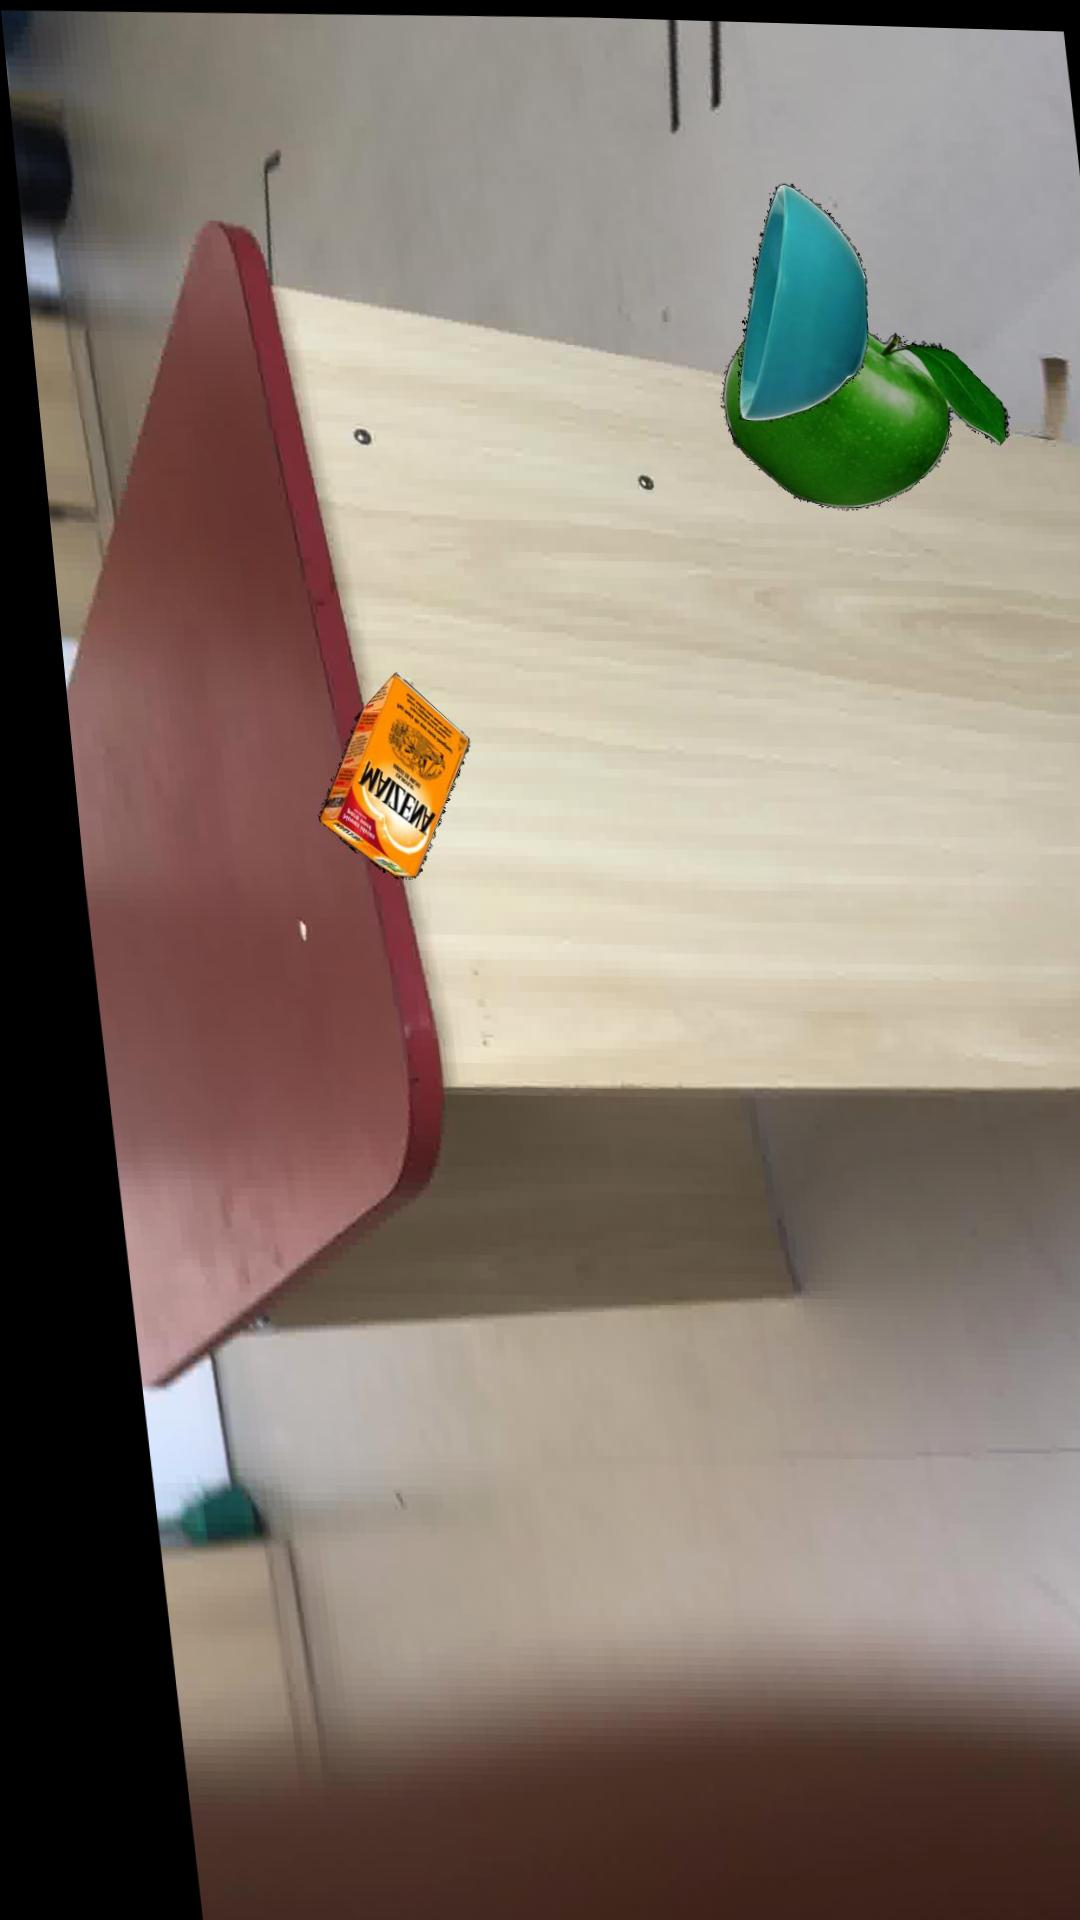bowl: (731, 179, 862, 417)
green apple: (715, 327, 1001, 504)
